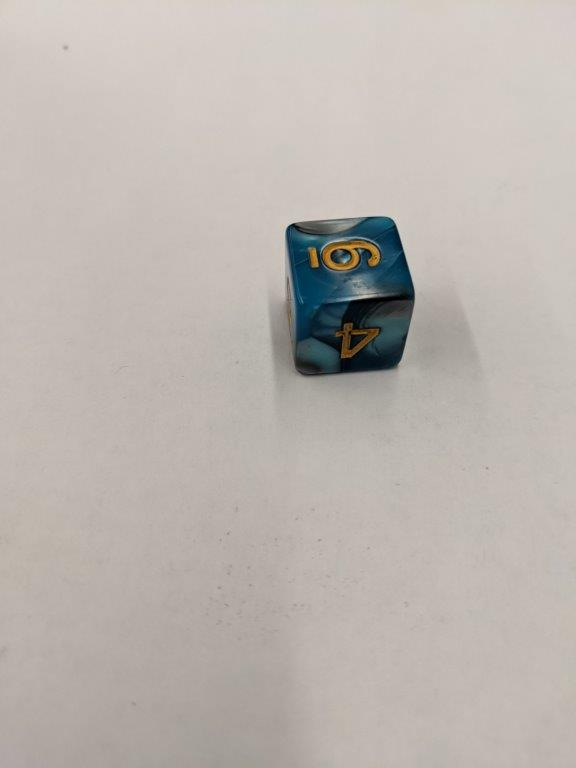d6-6: (283, 216, 415, 379)
